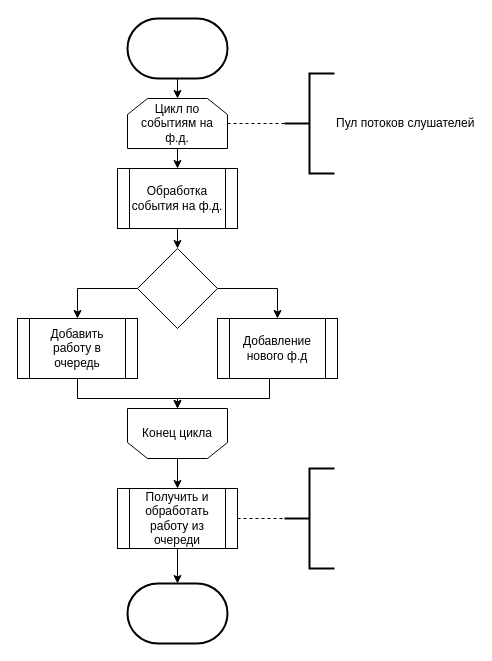
This 492x661 diagram has some shape labels left out. Each missing label, with the box of its shape:
Конец: (126, 582, 228, 644)
Начало: (126, 17, 228, 79)
Новый клиент?: (136, 248, 218, 328)
Пул потоков рабочих: (283, 467, 335, 569)
